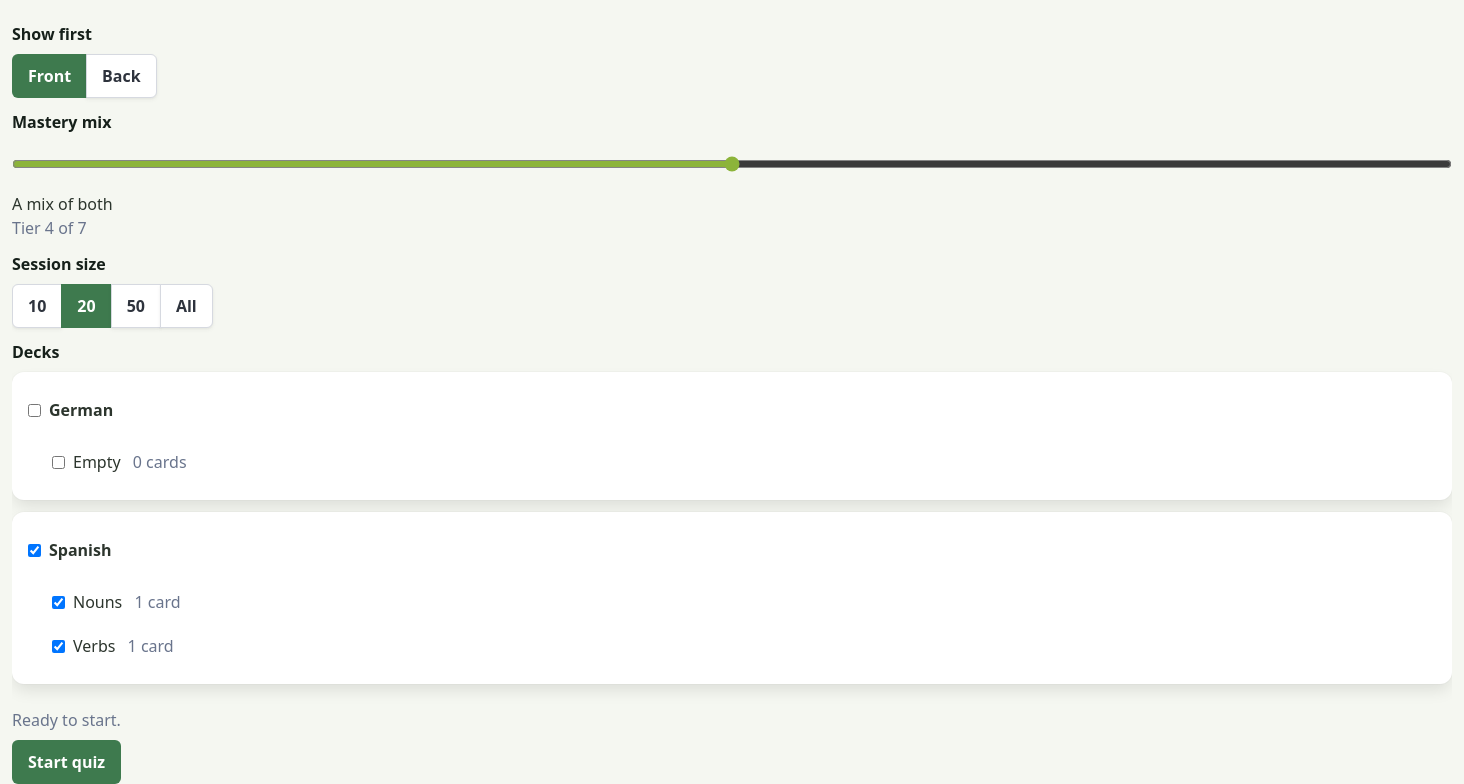
Test: QuizConfigureView › explains an empty pool instead of navigating
Click the button with test id "quiz-start": (67, 762) [12,740,121,783]
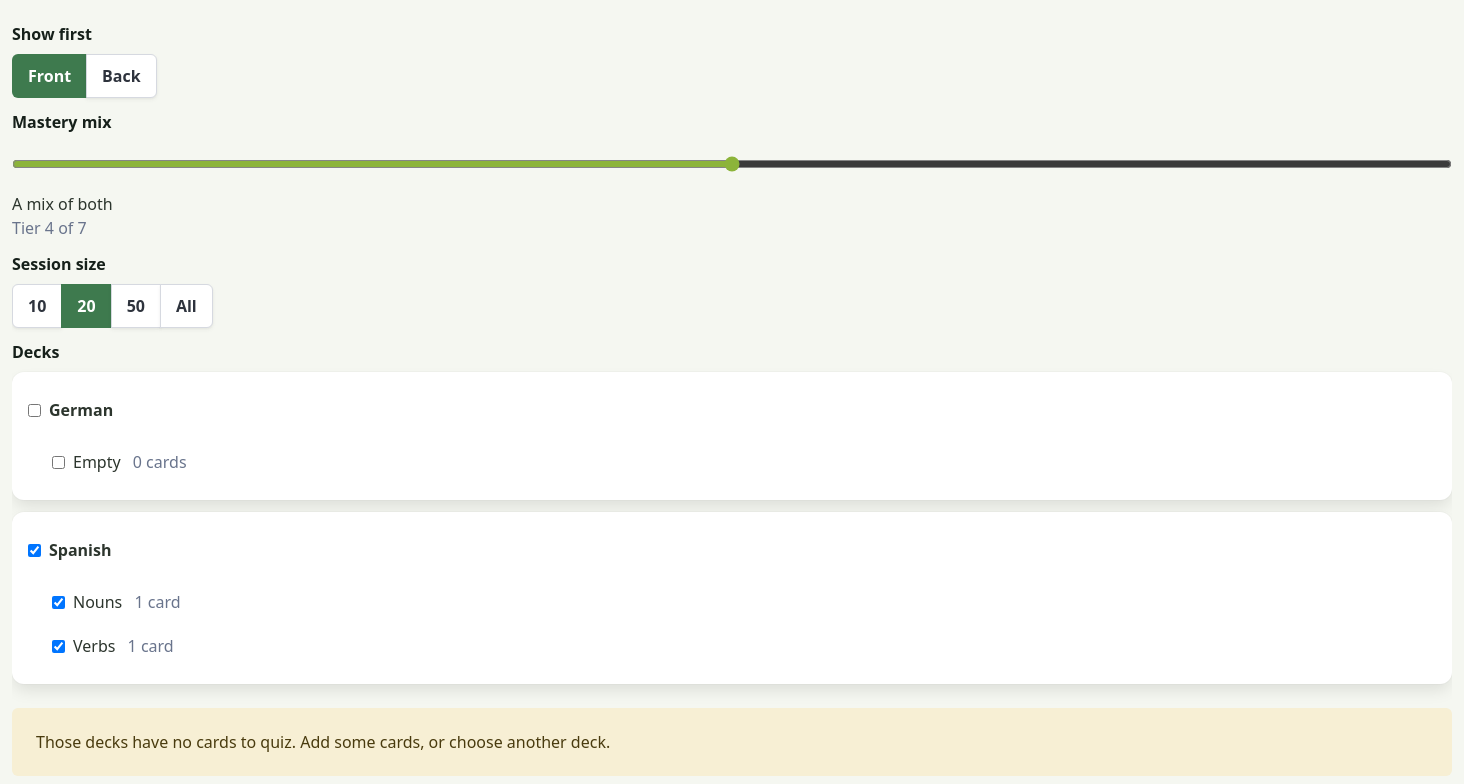
Now the text with test id "quiz-empty" shows "no cards", box [36,731,610,753]
